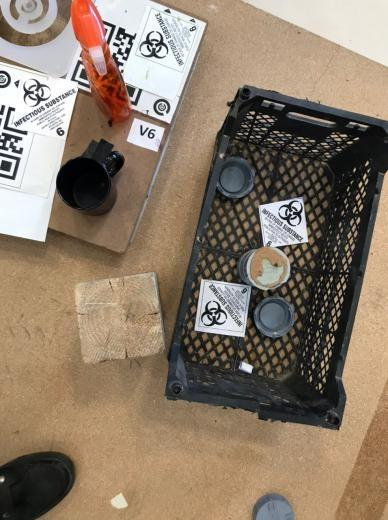infectious-substance: (7, 72, 76, 139), (133, 10, 198, 69), (197, 280, 248, 336), (261, 198, 307, 246)
